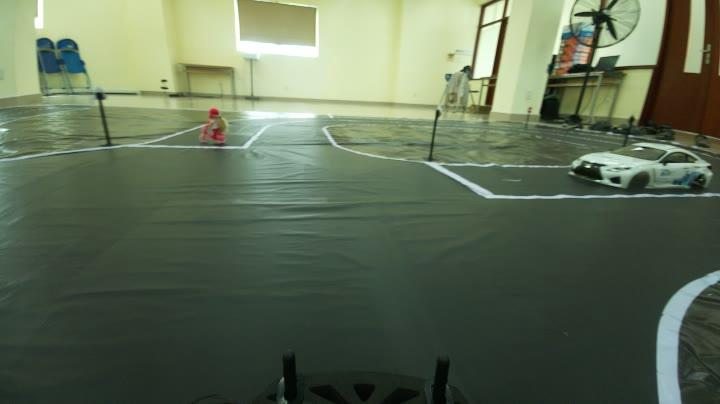car: (570, 136, 698, 192)
